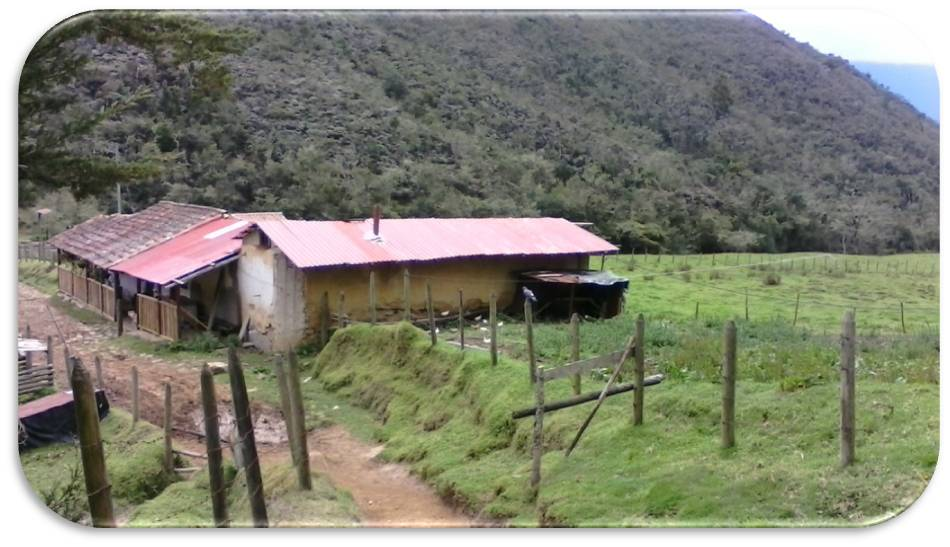House: (58, 172, 634, 338)
